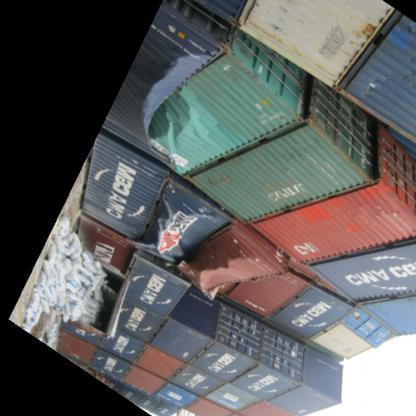Damage: (140, 45, 233, 169), (52, 250, 128, 336), (185, 244, 263, 292), (136, 193, 183, 271)
